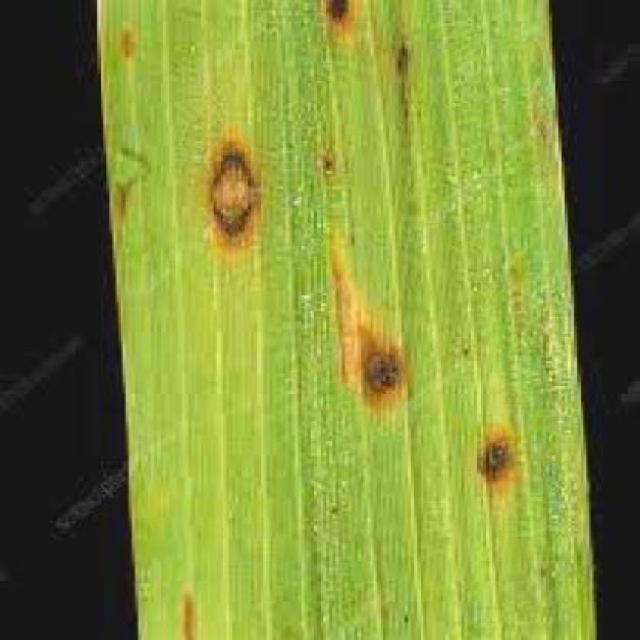Leaf_Blast: (314, 278, 426, 414), (190, 128, 282, 260), (454, 407, 532, 510), (392, 33, 428, 132), (165, 578, 218, 640), (104, 179, 145, 235), (304, 0, 362, 37), (112, 20, 146, 71), (528, 113, 558, 150), (319, 142, 339, 182)
